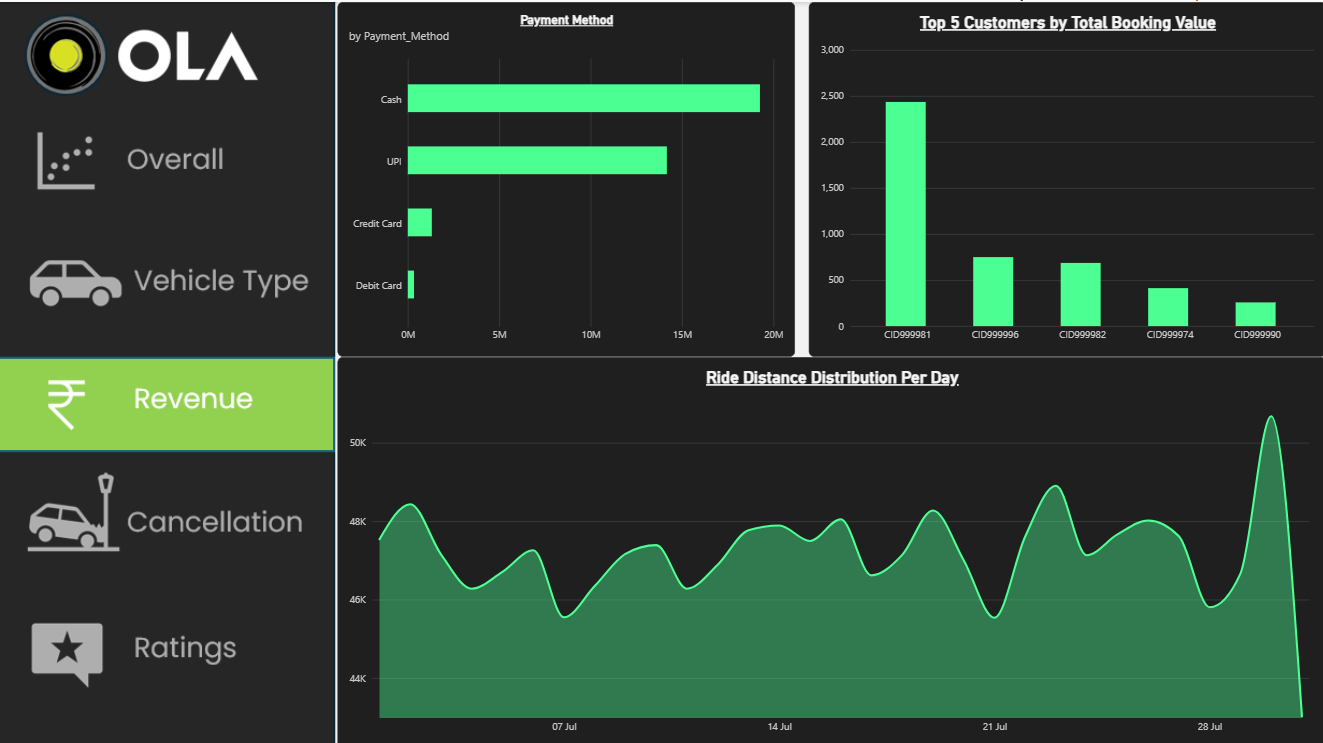

The page's visual inventory and layout, read from the dashboard file:
{"tool":"powerbi","page":{"name":"Revenue","canvas":[1920,1080],"ordinal":2},"visuals":[{"type":"barChart","fields":{"Category":["ola_project ola_rides.Payment_Method"],"Y":["Sum(ola_project ola_rides.Booking_Value)"]},"box":[488.6,0,662.3,513.9],"z":0},{"type":"clusteredColumnChart","title":"Top 5 Customers by Total Booking Value","fields":{"Category":["ola_project ola_rides.Customer_ID"],"Y":["Sum(ola_project ola_rides.Booking_Value)"]},"box":[1170.9,0,749.2,513.9],"z":1},{"type":"areaChart","title":"Ride Distance Distribution Per Day","fields":{"Category":["ola_project ola_rides.Date"],"Y":["Sum(ola_project ola_rides.Ride_Distance)"]},"box":[488.6,513.9,1431.4,566.4],"z":2}]}

Visuals, with their boxes on the page's 1920x1080 design canvas (x1, y1, x2, y2). These are canvas units, not pixel positions in the 1323x743 screenshot, which may show the page scaled, cropped or inside an application window:
barChart - ola_project ola_rides.Payment_Method x Sum(ola_project ola_rides.Booking_Value): [489, 0, 1151, 514]
"Top 5 Customers by Total Booking Value" clusteredColumnChart: [1171, 0, 1920, 514]
"Ride Distance Distribution Per Day" areaChart: [489, 514, 1920, 1080]
